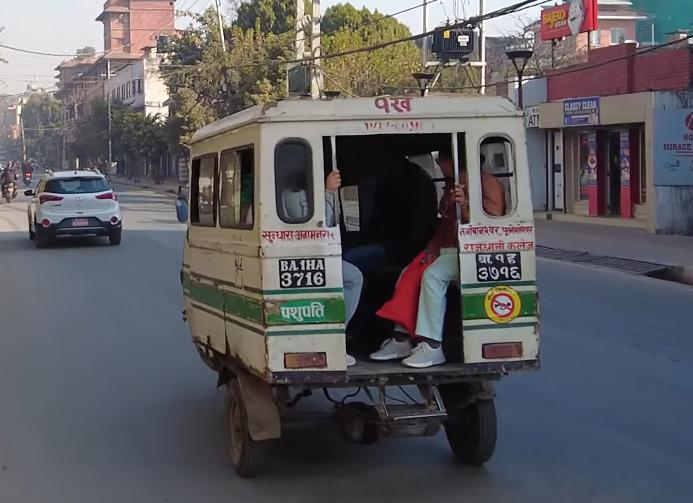car: (25, 167, 125, 247)
tempo: (170, 88, 549, 475)
